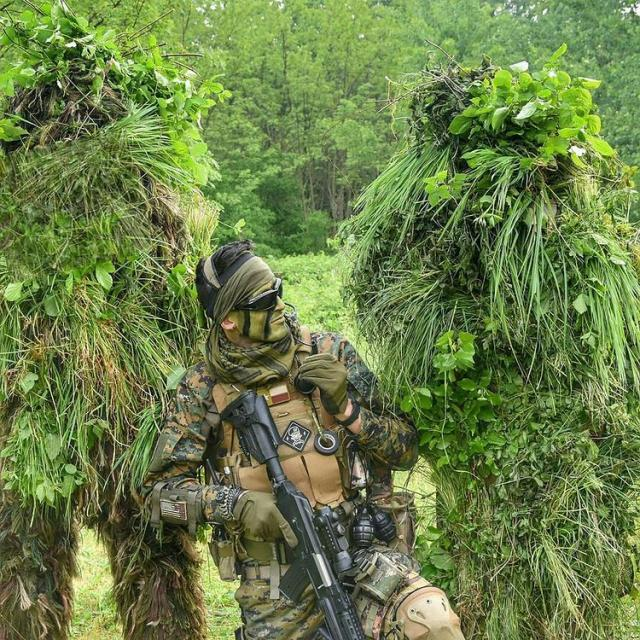Camouflage: (347, 51, 631, 621), (3, 8, 199, 628)
Human: (141, 240, 456, 620)
